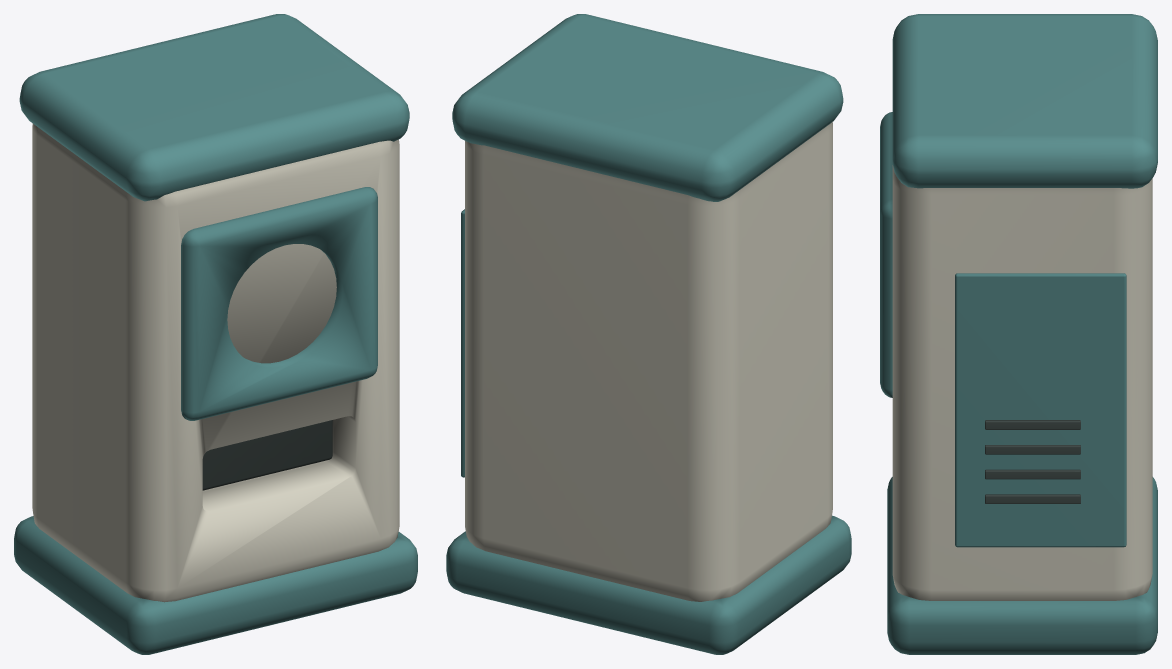
The model's file is dispenser_shell.glb.
3 views of the same model, side by side, from view 1: azimuth 30°, elevation 25°; view 2: azimuth 150°, elevation 25°; view 3: azimuth 270°, elevation 25° (orthographic). The views are drawn at different scales.
Parts seen in each view (by area): view 1: dispenser_shell; view 2: dispenser_shell; view 3: dispenser_shell.
Boxes of the visible parts, x1,y1,x2,y2 form: dispenser_shell: (14, 14, 417, 654); dispenser_shell: (446, 14, 851, 654); dispenser_shell: (880, 14, 1157, 654).
Size of the model in its own units: 1.32 by 2.18 by 1.07.
